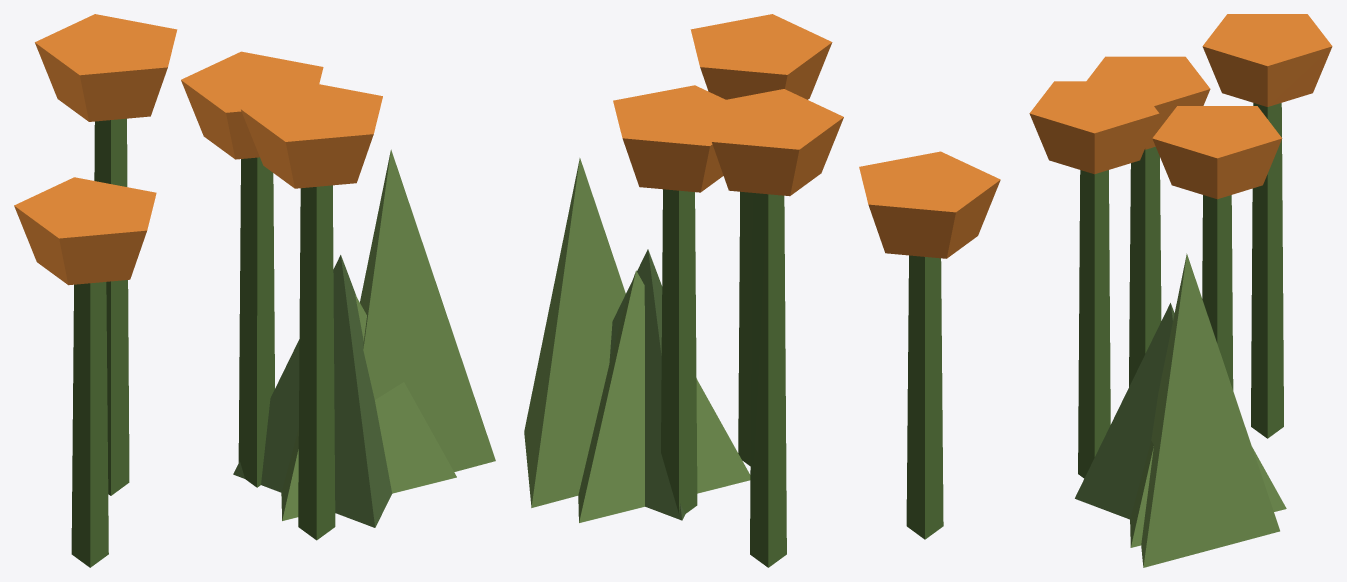
File: daylily.obj
The picture shows the model from 3 angles, left to right: view 1: azimuth 30°, elevation 25°; view 2: azimuth 150°, elevation 25°; view 3: azimuth 270°, elevation 25°; orthographic projection. The views are drawn at different scales.
Visible parts, largest first — view 1: daylily; view 2: daylily; view 3: daylily.
Part boxes in pixels (x1=…): daylily: x1=14, y1=14, x2=495, y2=567; daylily: x1=524, y1=14, x2=1000, y2=567; daylily: x1=1029, y1=14, x2=1332, y2=567.
Size of the model in its own units: 0.3449 by 0.3174 by 0.2216.
